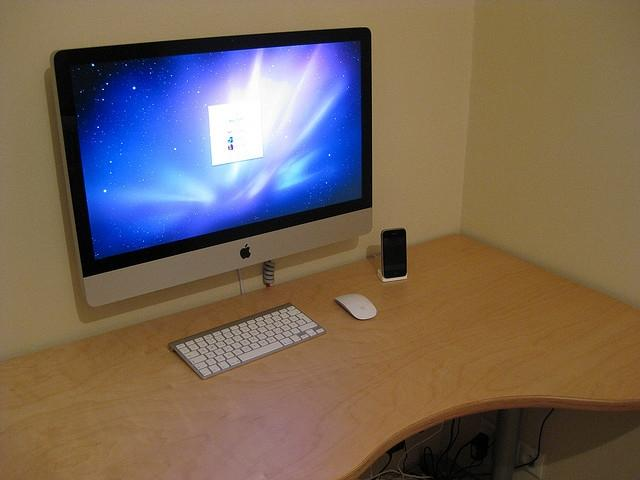apple: (240, 243, 251, 260), (360, 305, 365, 310)
